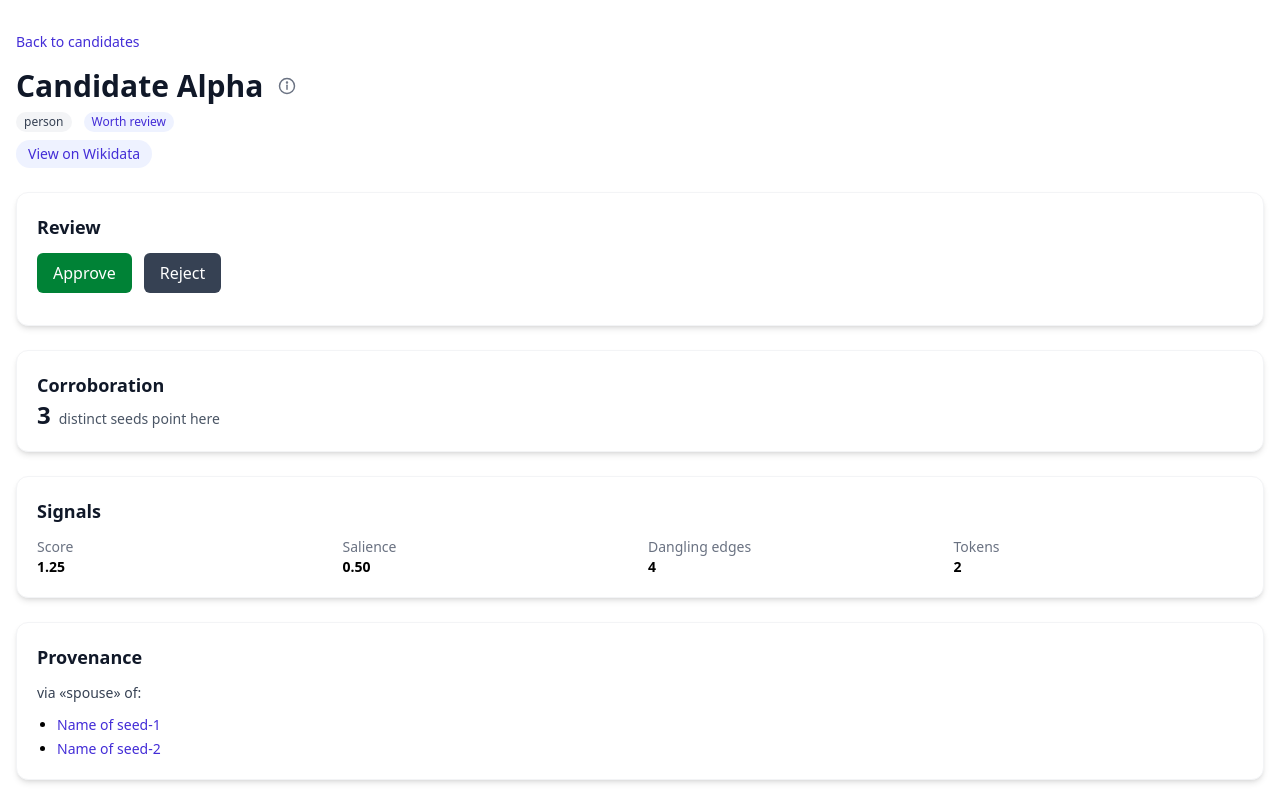
Test: CandidateDetailPage verdict › approve shows 'Entity created' and links the new entity
Click the button "Approve".
click(84, 273)  # box [37,253,132,293]
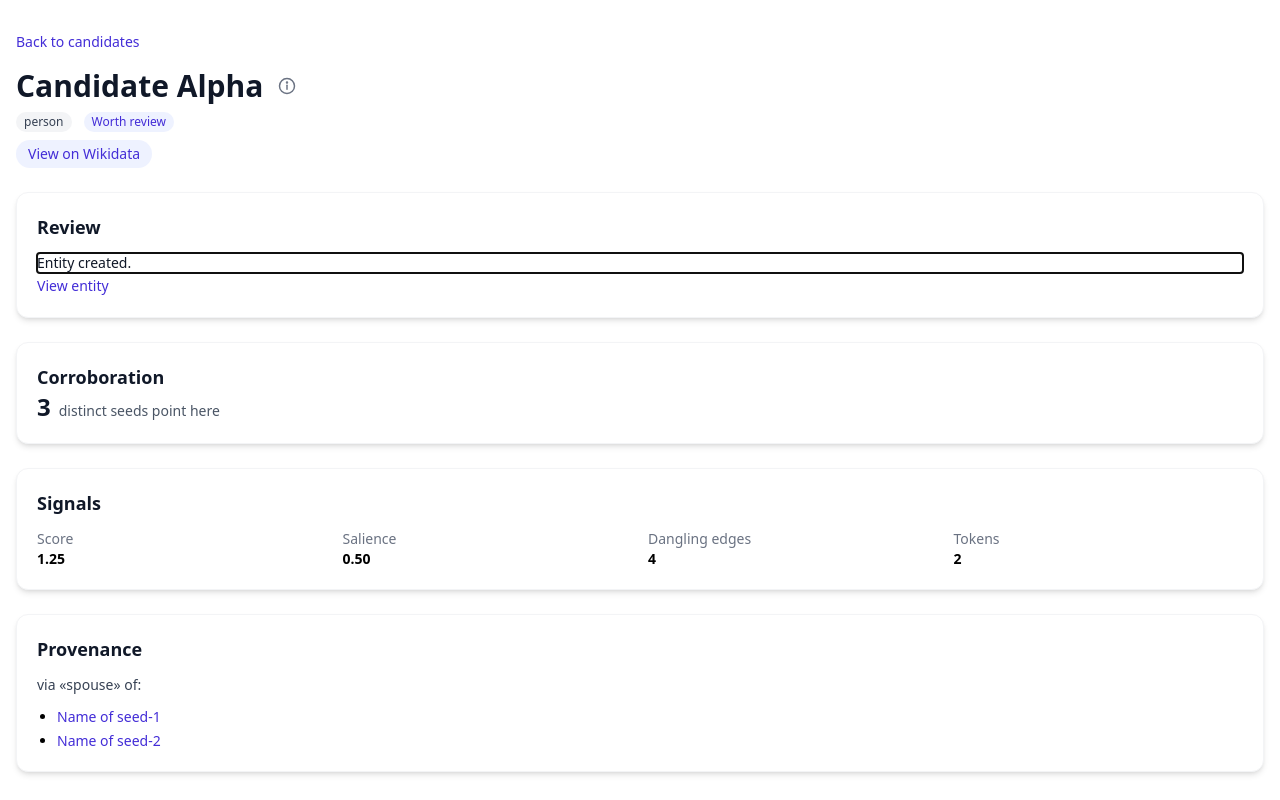
expect the text "Entity created." is shown: met, box [37,253,131,272]
